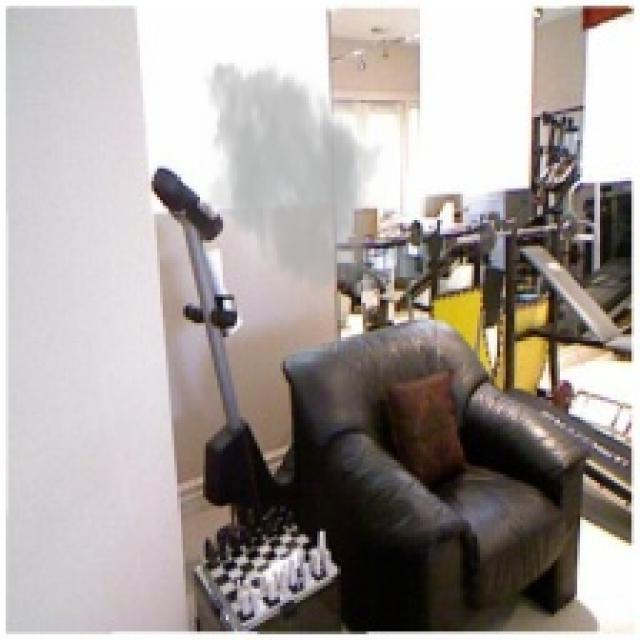Smoke: (194, 51, 397, 306)
